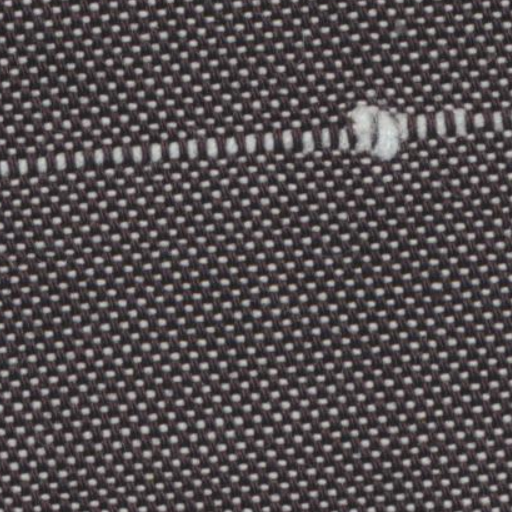DaiSha: (12, 100, 494, 186)
